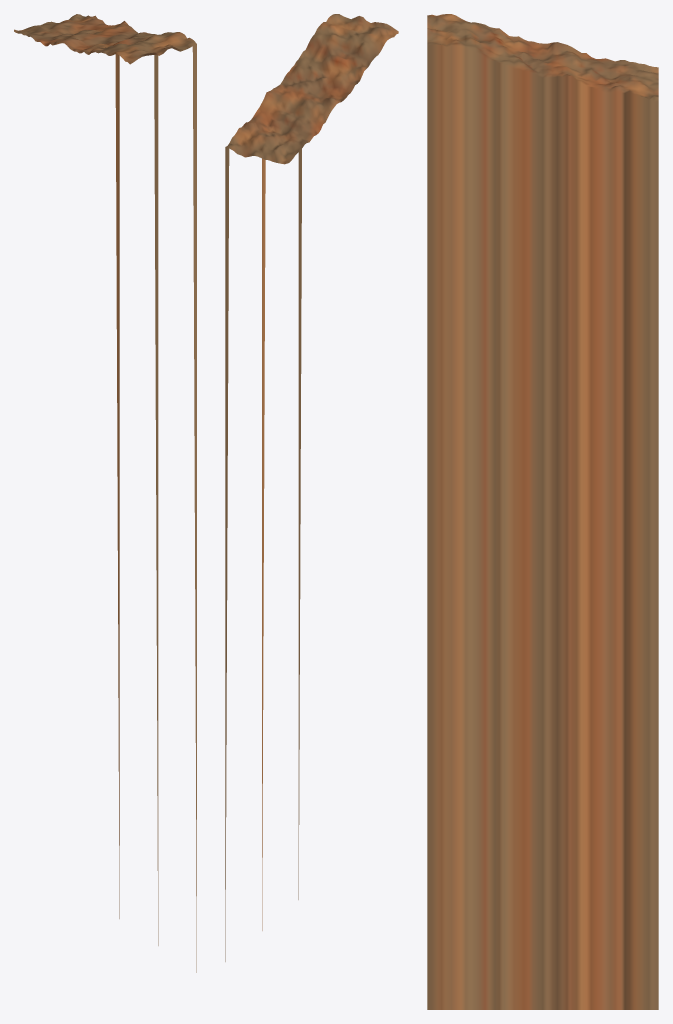
The model's file is terrain-170.glb.
3 views of the same model, side by side, from view 1: azimuth 30°, elevation 25°; view 2: azimuth 150°, elevation 25°; view 3: azimuth 270°, elevation 25° (orthographic). The views are drawn at different scales.
Visible parts, largest first — view 1: terrain-170; view 2: terrain-170; view 3: terrain-170.
Boxes of the visible parts, x1,y1,x2,y2 form: terrain-170: (14,14,196,972); terrain-170: (225,14,398,961); terrain-170: (427,14,658,1009).
Bounding box in the file's own units: 128 × 1772 × 384.
